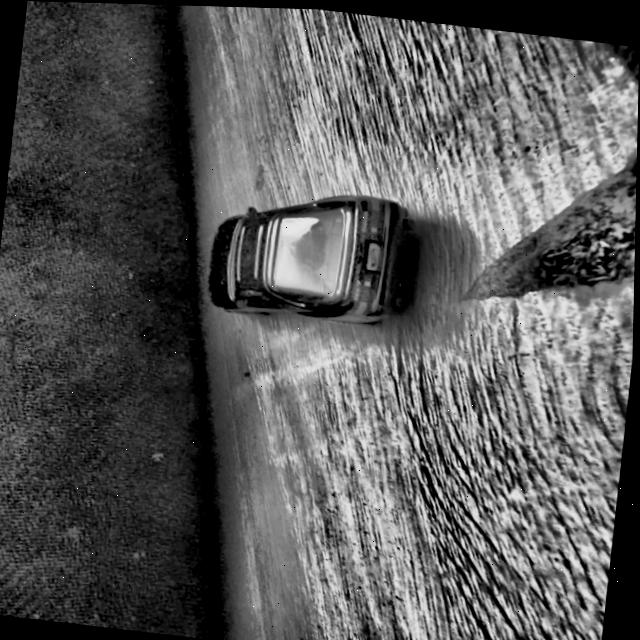car: (202, 175, 418, 331)
